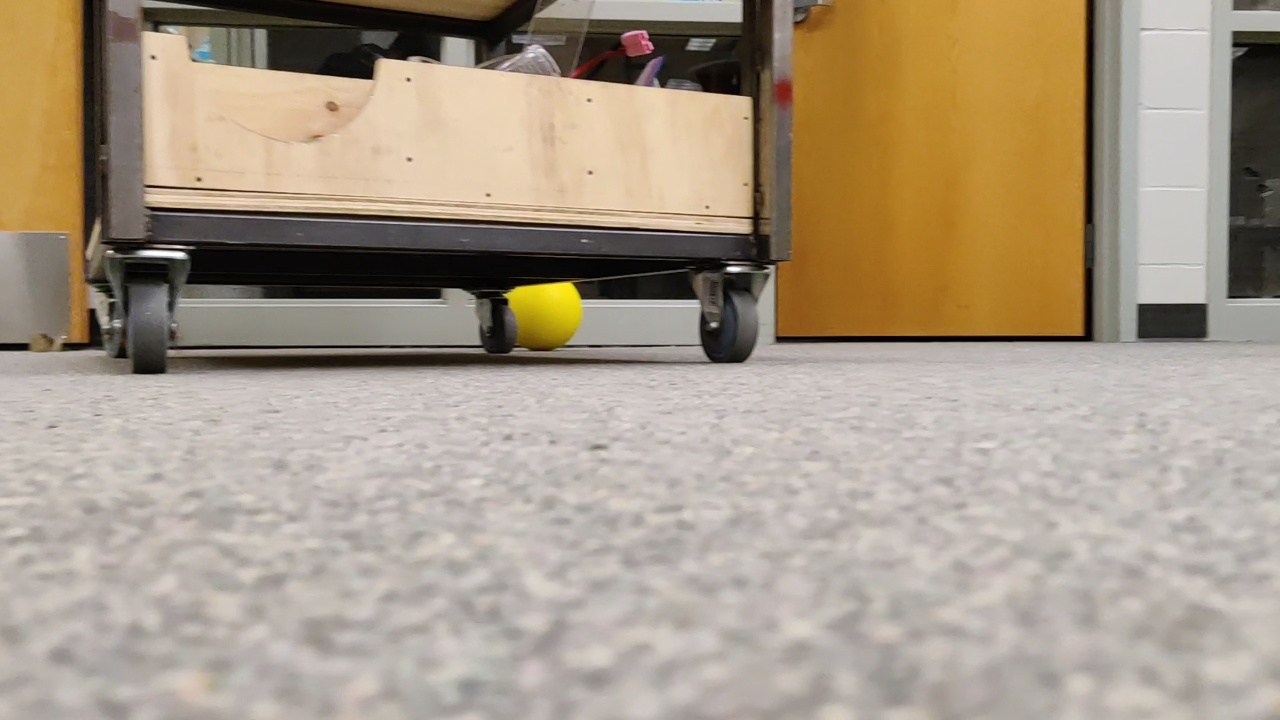Ball: (485, 278, 591, 359)
